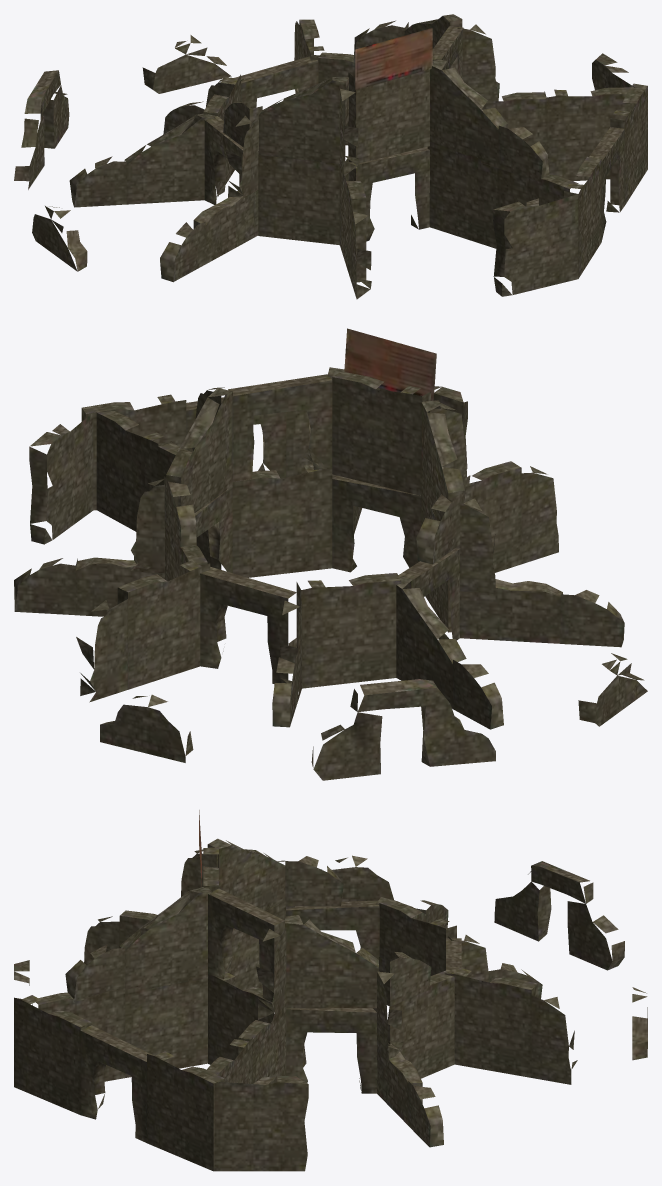
Rendered from jungle_ruins_c.glb.
3 views of the same model, one above another, from view 1: azimuth 30°, elevation 25°; view 2: azimuth 150°, elevation 25°; view 3: azimuth 270°, elevation 25° (orthographic). The views are drawn at different scales.
Visible parts, largest first — view 1: jungle_ruins_c_HLOD; view 2: jungle_ruins_c_HLOD; view 3: jungle_ruins_c_HLOD.
Boxes of the visible parts, <box> form: jungle_ruins_c_HLOD: <box>14,14,647,299</box>; jungle_ruins_c_HLOD: <box>14,328,647,780</box>; jungle_ruins_c_HLOD: <box>14,810,647,1171</box>.
Size of the model in its own units: 20.47 by 7.53 by 20.2.
1 material, 1 textured.
